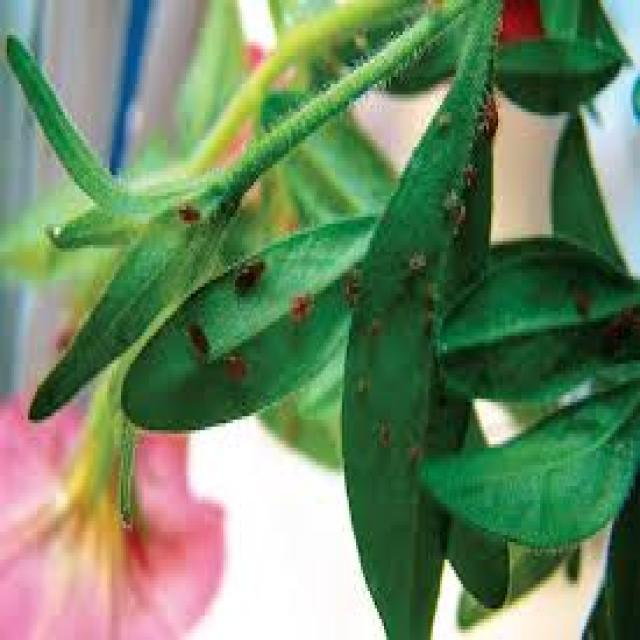aphid: (228, 248, 270, 301), (472, 76, 500, 150), (282, 284, 322, 332), (179, 311, 212, 364), (214, 346, 251, 388), (444, 189, 470, 238), (398, 238, 428, 280), (170, 192, 202, 231), (335, 266, 363, 308), (456, 154, 482, 196), (566, 276, 592, 318), (370, 409, 393, 451), (349, 360, 372, 402), (428, 98, 454, 133), (401, 434, 424, 466), (363, 308, 384, 342)
